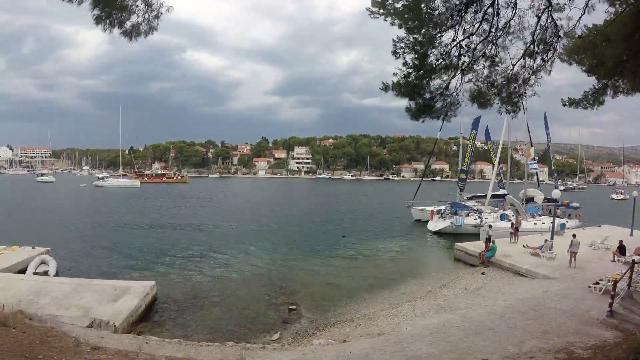Freighter: (131, 166, 191, 186)
Sailboat: (88, 170, 142, 190), (31, 164, 59, 185)
